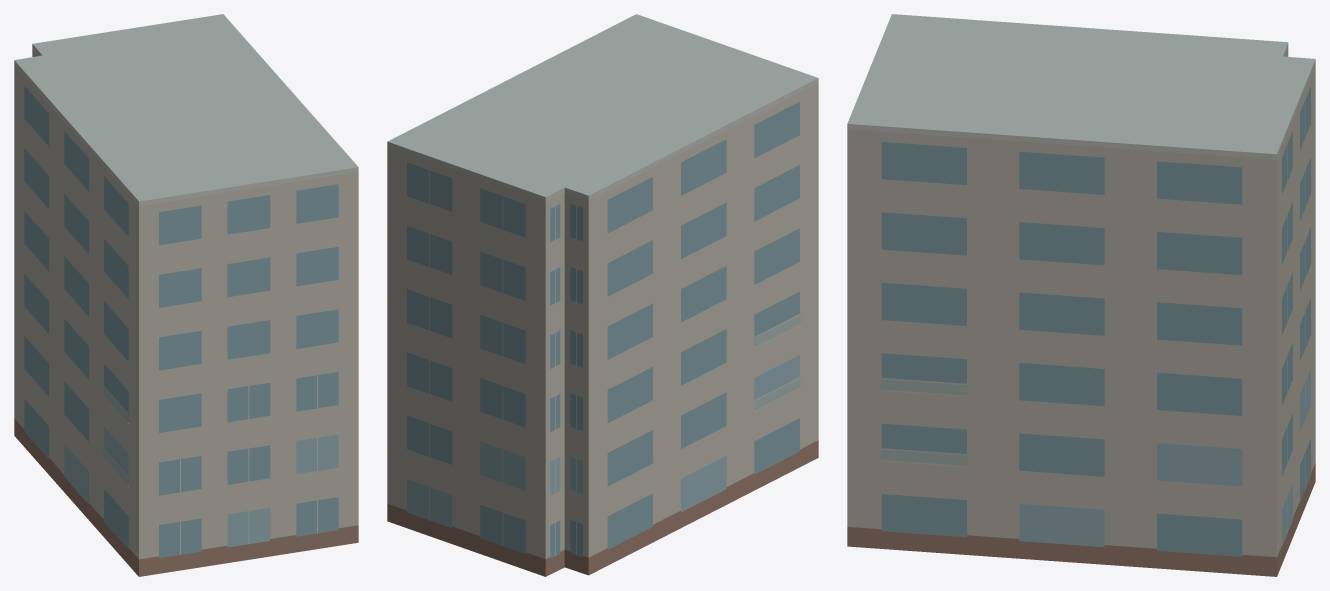
The model's file is survey-upis-32686072.glb.
3 renders of one model, left to right at view 1: azimuth 30°, elevation 25°; view 2: azimuth 150°, elevation 25°; view 3: azimuth 270°, elevation 25°, orthographic. The views are drawn at different scales.
Parts seen in each view (by area): view 1: survey-upis-32686072.tmp; view 2: survey-upis-32686072.tmp; view 3: survey-upis-32686072.tmp.
Boxes of the visible parts, x1,y1,x2,y2 form: survey-upis-32686072.tmp: (14,14,358,576); survey-upis-32686072.tmp: (387,14,818,576); survey-upis-32686072.tmp: (847,14,1315,576).
Size of the model in its own units: 13.82 by 19.4 by 19.49.
